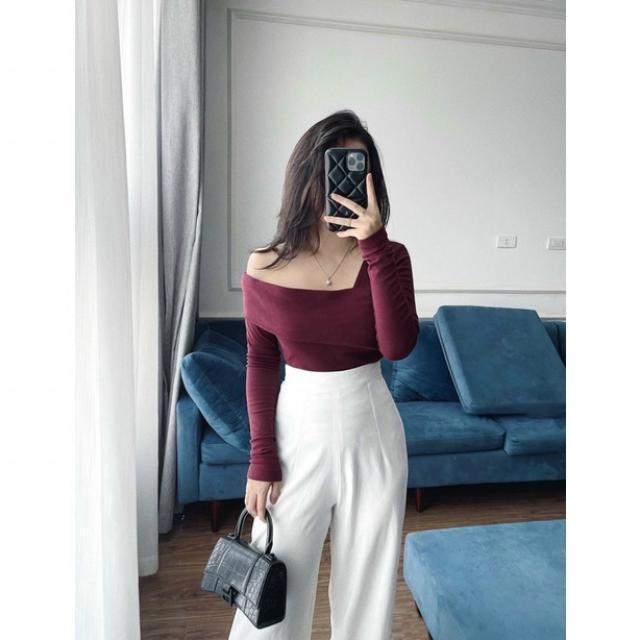Shirt: (238, 237, 420, 480)
